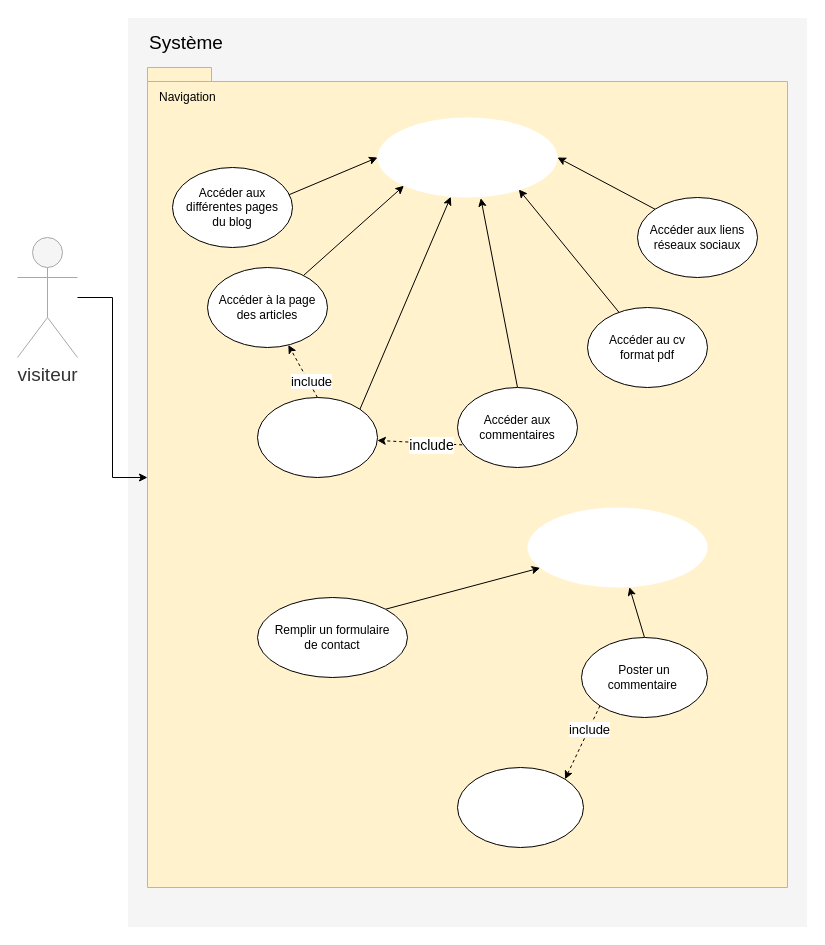
Some shapes in this 825 by 945 pixel diagram are drawn without their labels. Each missing label, with the box of its shape:
Accéder à la page d'un article: (256, 396, 378, 478)
Interagir sur le blog: (527, 507, 707, 587)
parcourir le blog: (377, 117, 557, 197)
Remplir un formulaire de commentaire: (456, 766, 584, 848)
